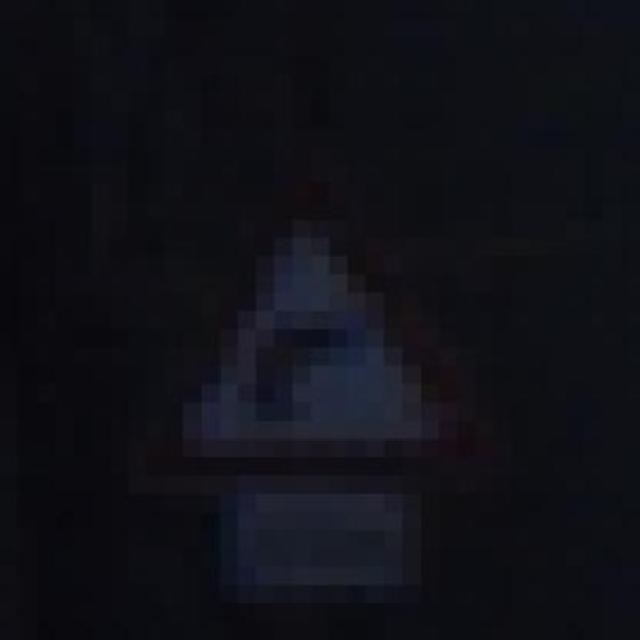Dangerous Rright Curve Ahead: (128, 128, 494, 530)
